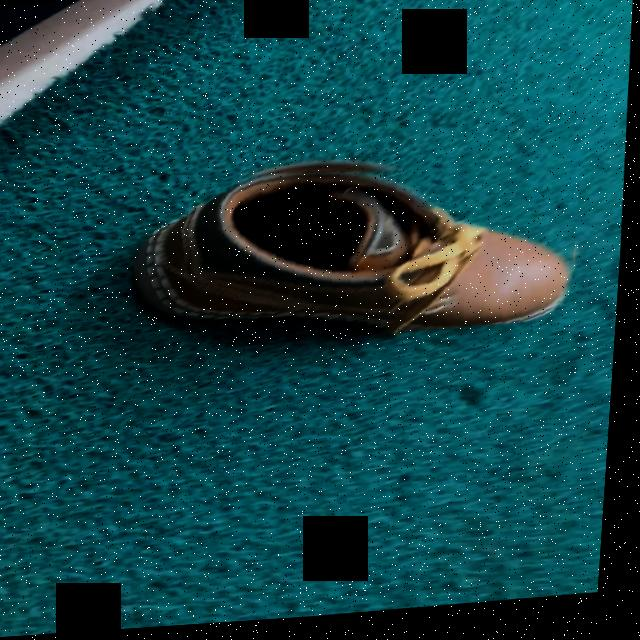shoe: (136, 175, 577, 339)
